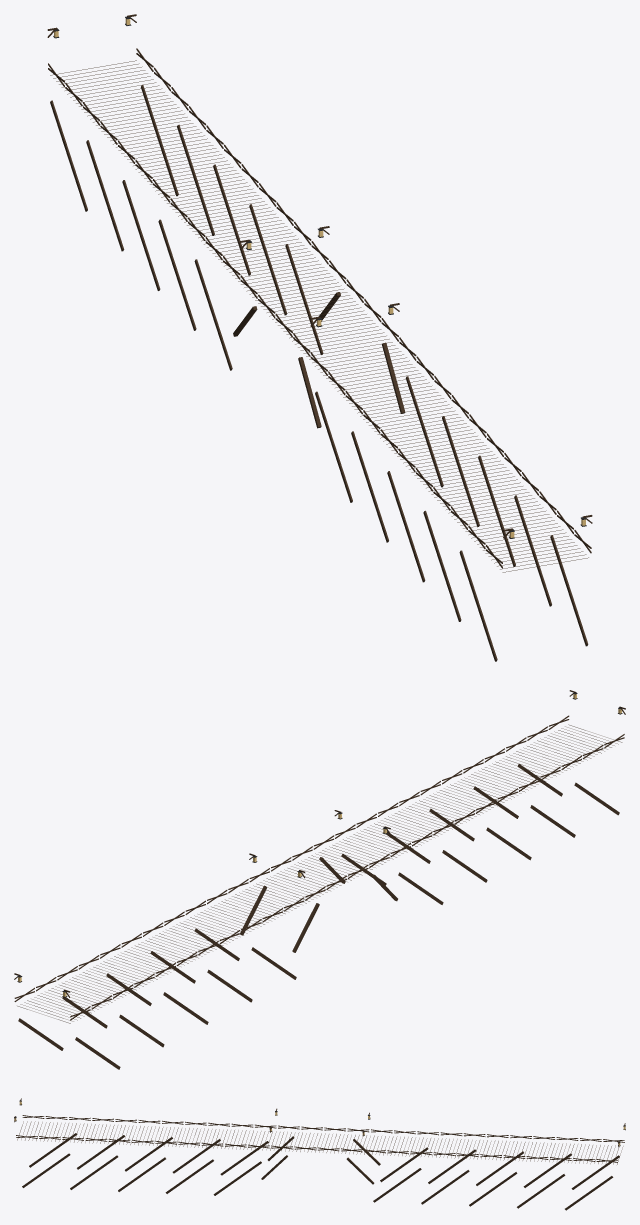
The model's file is SM_Bridge_ToSprings_NoCol.fbx.
3 views of the same model, one above another, from view 1: azimuth 30°, elevation 25°; view 2: azimuth 150°, elevation 25°; view 3: azimuth 270°, elevation 25° (orthographic). The views are drawn at different scales.
Parts seen in each view (by area): view 1: SM_Bridge_ToSprings_NoCol; view 2: SM_Bridge_ToSprings_NoCol; view 3: SM_Bridge_ToSprings_NoCol.
Boxes of the visible parts, bbox=[...] form: SM_Bridge_ToSprings_NoCol: bbox=[47, 14, 592, 661]; SM_Bridge_ToSprings_NoCol: bbox=[14, 690, 625, 1069]; SM_Bridge_ToSprings_NoCol: bbox=[14, 1098, 625, 1210].
Size of the model in its own units: 11.23 by 7.47 by 51.56.
